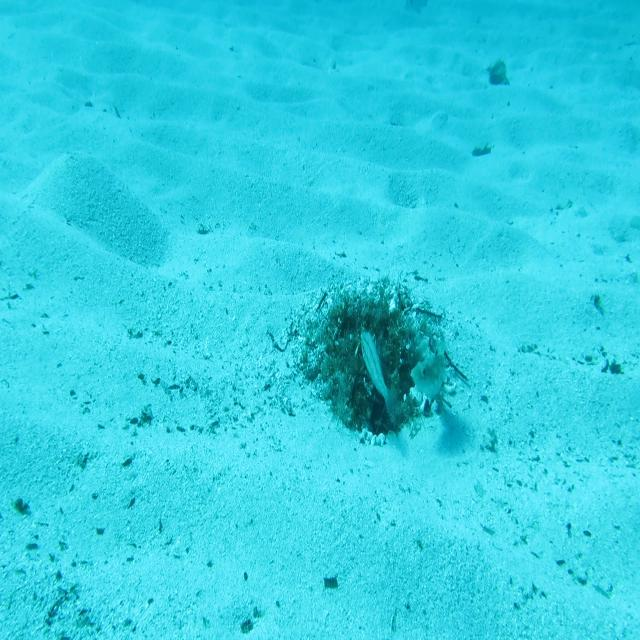BEND: (409, 340, 447, 403)
core_nest: (350, 308, 394, 345)
female: (360, 329, 400, 426), (628, 214, 640, 232)
nest: (288, 266, 458, 452)
other_fish: (402, 0, 431, 18)
vegetation: (486, 58, 511, 87), (472, 144, 490, 161), (324, 574, 337, 588)
